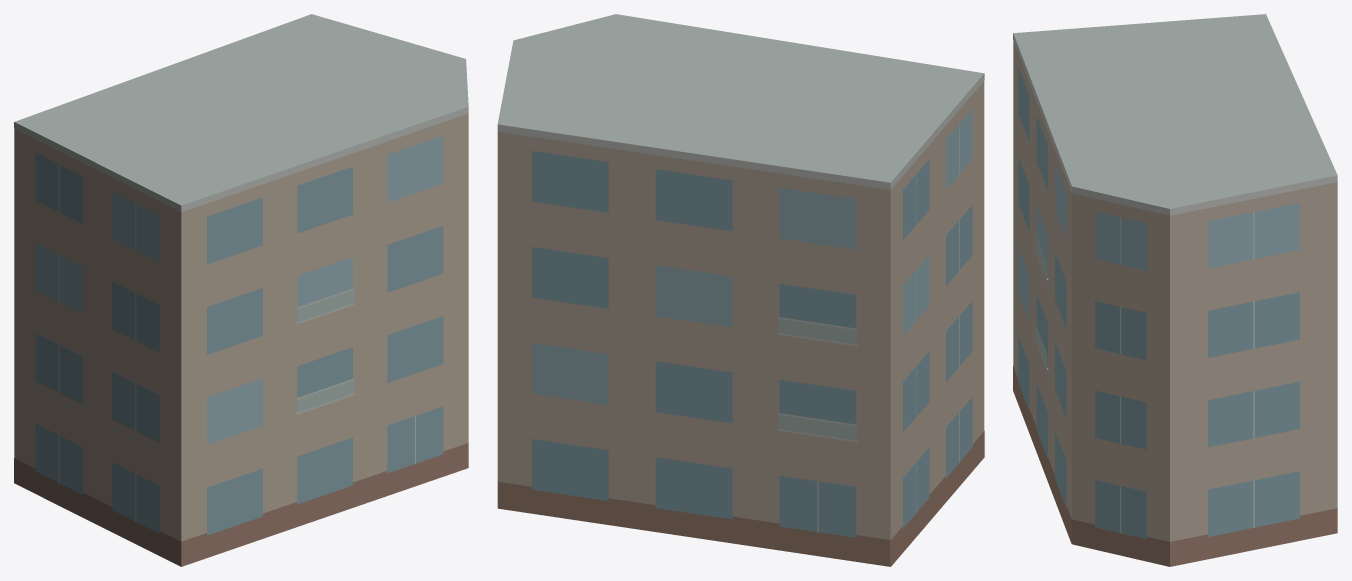
Rendered from survey-upis-32838971.glb.
3 views of the same model, side by side, from view 1: azimuth 30°, elevation 25°; view 2: azimuth 150°, elevation 25°; view 3: azimuth 270°, elevation 25° (orthographic). The views are drawn at different scales.
Visible parts, largest first — view 1: survey-upis-32838971.tmp; view 2: survey-upis-32838971.tmp; view 3: survey-upis-32838971.tmp.
Boxes of the visible parts, x1,y1,x2,y2 form: survey-upis-32838971.tmp: [14, 14, 468, 566]; survey-upis-32838971.tmp: [497, 14, 984, 566]; survey-upis-32838971.tmp: [1013, 14, 1337, 566].
Bounding box in the file's own units: 15.16 × 12.96 × 10.66.
